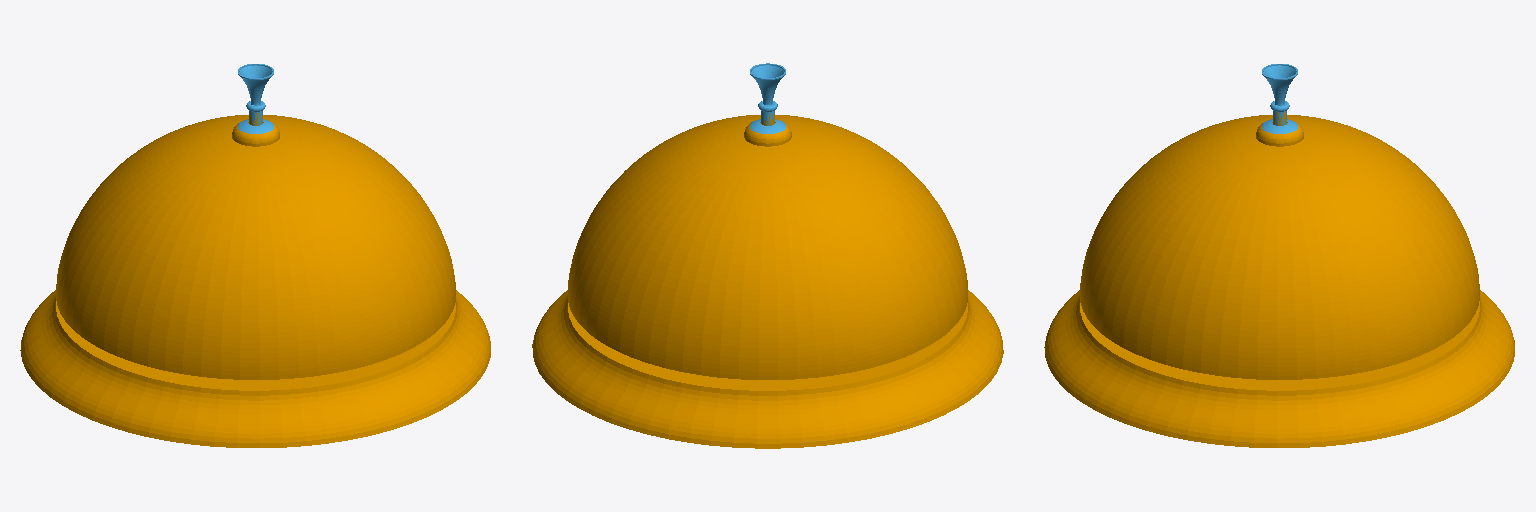
URDF robot description (bell_bell_03_b739cb_93):
<?xml version="1.0" encoding="UTF-8"?>
<!-- two-link bell candidate; source mesh: bell_03_b739cb_93 (sha256=447384d18ac398e6131cf8b2275e8335d6a378c34981eb0ef7b6dddef3b63a3d) -->
<robot name="bell_bell_03_b739cb_93">
  <link name="base">
    <inertial>
      <origin xyz="0 0 0.017945" rpy="0 0 0"/>
      <mass value="0.064269"/>
      <inertia ixx="0.000045860" ixy="0." ixz="0." iyy="0.000046128" iyz="0." izz="0.000064122"/>
    </inertial>
    <visual>
      <origin xyz="0 0 0" rpy="0 0 0"/>
      <geometry><mesh filename="bell_03_b739cb_93_base.obj"/></geometry>
    </visual>
    <collision>
      <origin xyz="0 0 0" rpy="0 0 0"/>
      <geometry><mesh filename="bell_03_b739cb_93_base.obj"/></geometry>
    </collision>
  </link>

  <link name="button_cover">
    <inertial>
      <origin xyz="0 0 0.055593" rpy="0 0 0"/>
      <mass value="0.000522"/>
      <inertia ixx="0.000000010" ixy="0." ixz="0." iyy="0.000000010" iyz="0." izz="0.000000003"/>
    </inertial>
    <visual>
      <origin xyz="0 0 0" rpy="0 0 0"/>
      <geometry><mesh filename="bell_03_b739cb_93_cover.obj"/></geometry>
    </visual>
    <collision>
      <origin xyz="0 0 0.054450" rpy="0 0 0"/>
      <geometry><cylinder radius="0.004735" length="0.012000"/></geometry>
    </collision>
  </link>

  <joint name="press" type="prismatic">
    <origin xyz="0 0 0" rpy="0 0 0"/>
    <parent link="base"/>
    <child link="button_cover"/>
    <axis xyz="0 0 -1"/>
    <limit lower="-0.005" upper="0.0" effort="50." velocity="0.2"/>
  </joint>
  <gazebo reference="button_cover">
    <mu1>0.6</mu1><mu2>0.6</mu2><maxContacts>3</maxContacts>
  </gazebo>
</robot>

--- Facts derived from the render (not from the file) ---
Views: 3 orthographic renders of the robot side by side, from view 1: azimuth 30°, elevation 25°; view 2: azimuth 150°, elevation 25°; view 3: azimuth 270°, elevation 25°.
Model bell_bell_03_b739cb_93 with 2 links and 1 joints (1 prismatic), rooted at base, posed all joints at 0.
Visible links, largest first — view 1: base, button_cover; view 2: base, button_cover; view 3: base, button_cover.
Link boxes in pixels (x1,y1,x2,y2): base: (20, 112, 490, 447); button_cover: (238, 64, 273, 133); base: (532, 113, 1003, 448); button_cover: (750, 63, 785, 133); base: (1044, 112, 1514, 447); button_cover: (1262, 64, 1297, 133).
Size in the robot's own frame: 0.093 by 0.093 by 0.0604 metres.
2 mesh visuals loaded from 2 distinct referenced files (2 OBJ).
